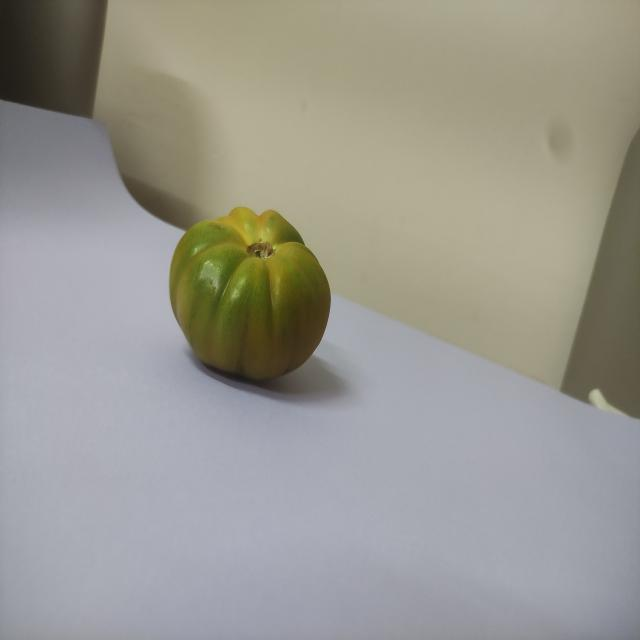yesil: (159, 190, 345, 394)
